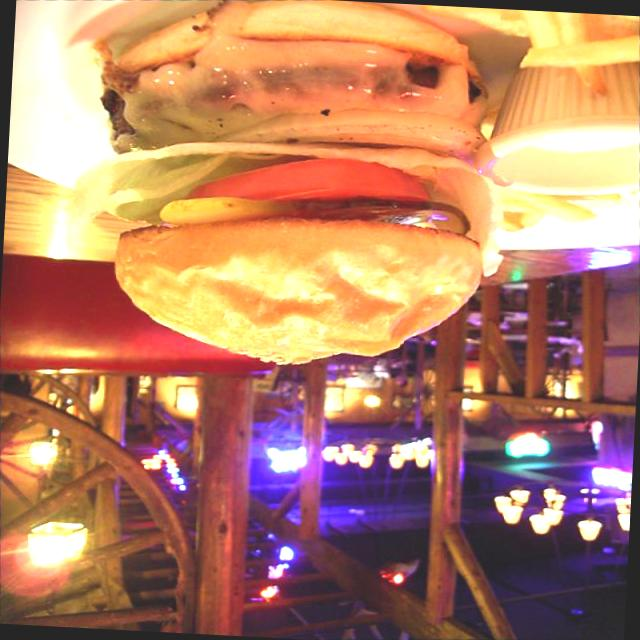Hamburger: (56, 0, 529, 411)
